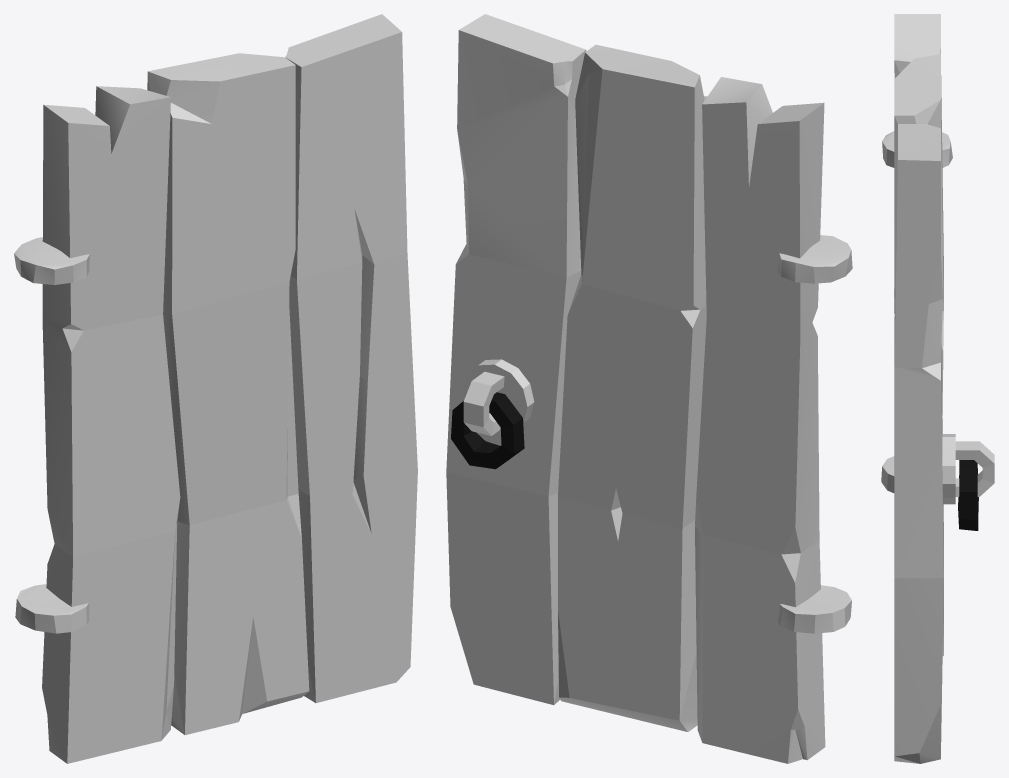
The model's file is NGF_Env_Door_06.fbx.
3 views of the same model, side by side, from view 1: azimuth 30°, elevation 25°; view 2: azimuth 150°, elevation 25°; view 3: azimuth 270°, elevation 25° (orthographic). The views are drawn at different scales.
Parts seen in each view (by area): view 1: NGF_Env_Door_06, NGF_Env_Hinges_11; view 2: NGF_Env_Door_06, NGF_Env_Hinges_11, NGF_Env_Handle_attachment_06, NGF_Env_Handle_06; view 3: NGF_Env_Door_06, NGF_Env_Handle_attachment_06, NGF_Env_Handle_06, NGF_Env_Hinges_11.
Boxes of the visible parts, <box> form: NGF_Env_Door_06: <box>42,14,417,763</box>; NGF_Env_Hinges_11: <box>14,237,89,633</box>; NGF_Env_Door_06: <box>446,14,825,763</box>; NGF_Env_Hinges_11: <box>777,235,852,633</box>; NGF_Env_Handle_attachment_06: <box>462,359,534,435</box>; NGF_Env_Handle_06: <box>451,392,524,469</box>; NGF_Env_Door_06: <box>894,14,943,763</box>; NGF_Env_Handle_attachment_06: <box>942,434,994,504</box>; NGF_Env_Handle_06: <box>958,460,978,530</box>; NGF_Env_Hinges_11: <box>881,131,952,492</box>.
Size of the model in its own units: 1.53 by 2.46 by 0.418.
Materials: 1 (1 with a texture image).
